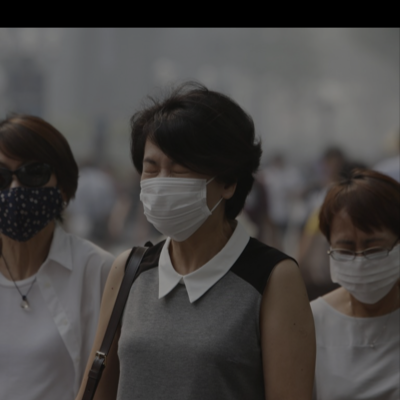with_mask: (138, 155, 223, 237), (330, 232, 399, 304), (0, 159, 58, 242)
